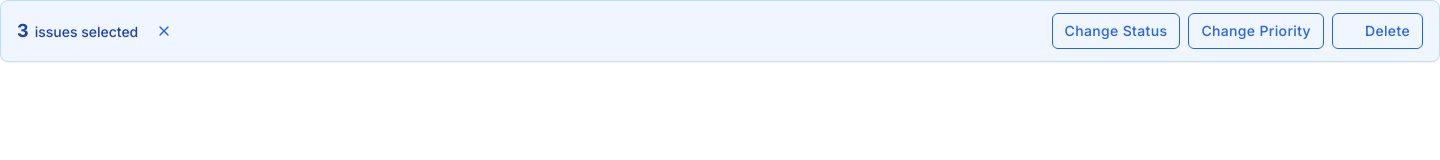
BulkActionsBar › hides confirmation when cancel is clicked
Click the button with aria-label "delete selected issues" at coordinates (1378, 31), box [1332,13,1423,48]
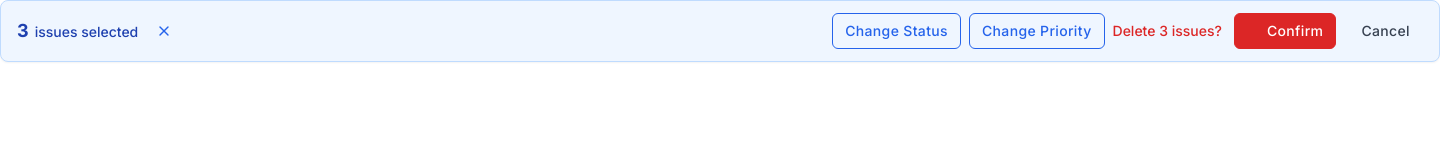
Expected: the text "Delete 3 issues?" is shown, [1112,20,1222,41]
Click the button "Cancel" at coordinates (1386, 31), box [1348,13,1423,48]
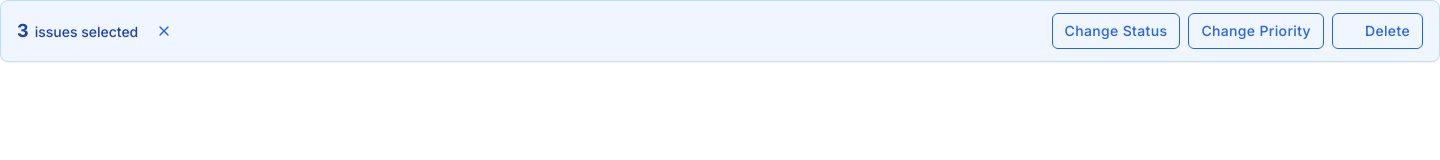
Expected: the text "Delete 3 issues?" is gone
